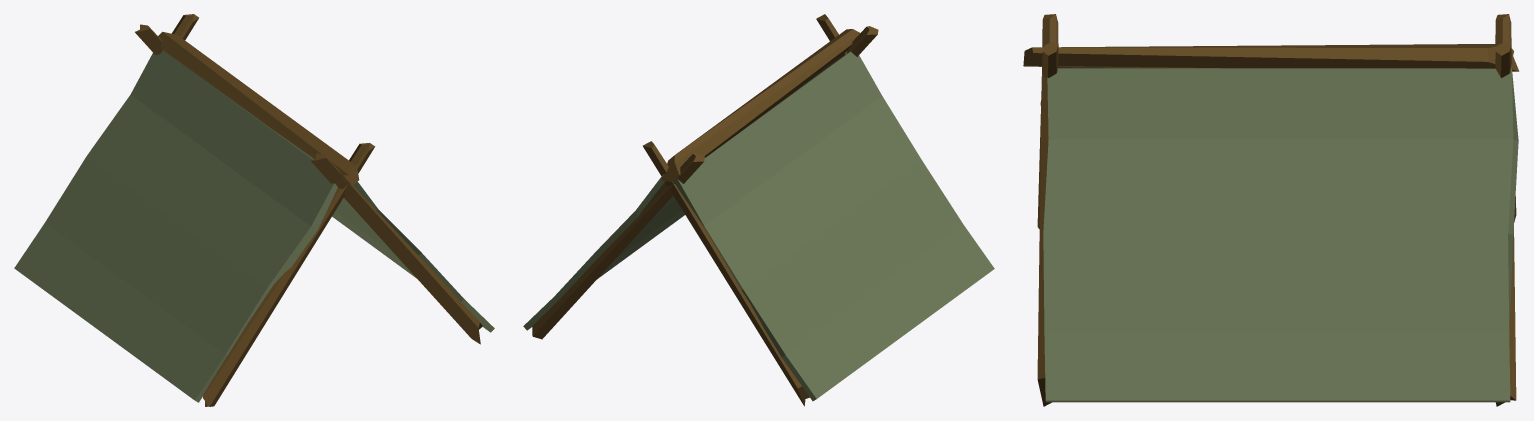
File: tent.fbx
3 views of the same model, side by side, from view 1: azimuth 30°, elevation 25°; view 2: azimuth 150°, elevation 25°; view 3: azimuth 270°, elevation 25° (orthographic). The views are drawn at different scales.
Visible parts, largest first — view 1: F.R; view 2: F.R; view 3: F.R.
Boxes of the visible parts, <box> form: F.R: <box>14,14,494,406</box>; F.R: <box>523,14,994,406</box>; F.R: <box>1023,14,1519,406</box>.
Size of the model in its own units: 765 by 555 by 854.
